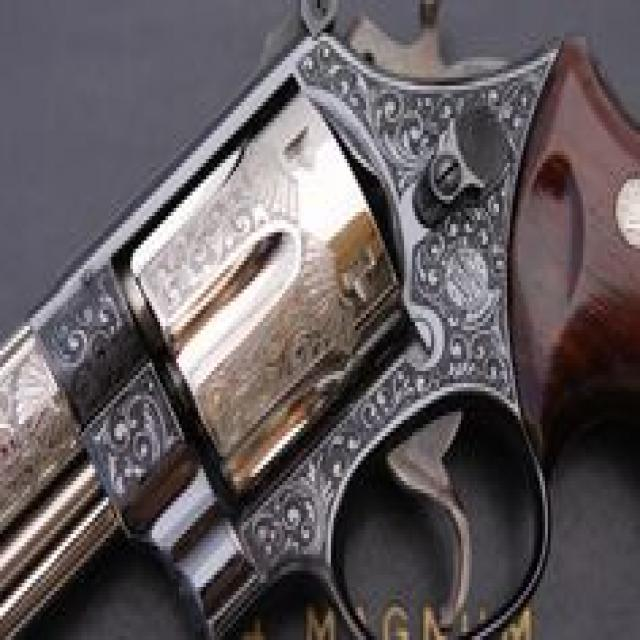revolver: (5, 1, 640, 634)
